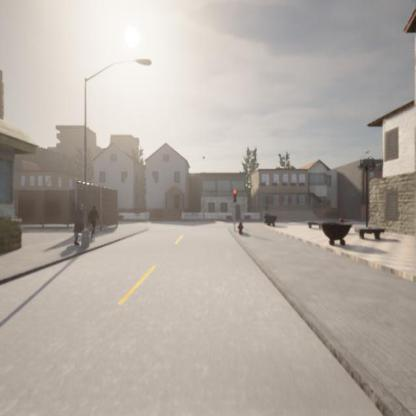person: (73, 201, 87, 247), (87, 204, 98, 238)
traffic_light_red: (233, 189, 236, 203)
